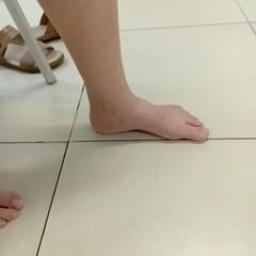Medial View -Left Foot-: (72, 74, 232, 156)
